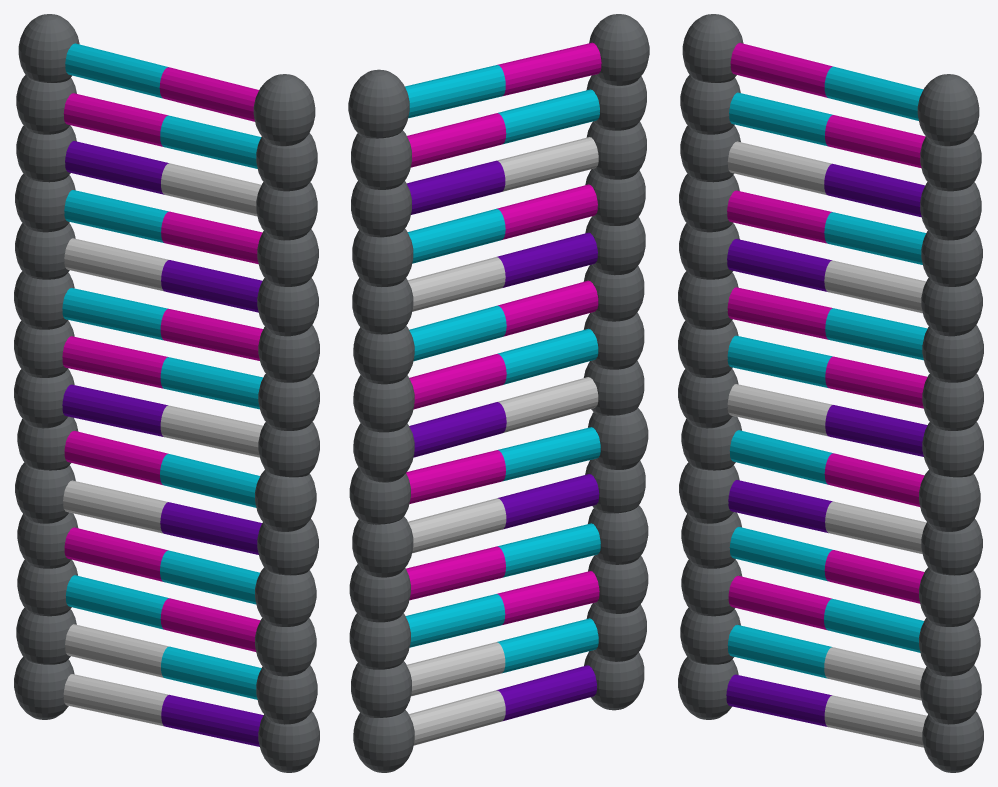
Rendered from DNAflatmutation2.glb.
3 views of the same model, side by side, from view 1: azimuth 90°, elevation 25°; view 2: azimuth 150°, elevation 25°; view 3: azimuth 270°, elevation 25° (orthographic).
Visible parts, largest first — view 1: Mesh_Mesh_head_geo.001_lambert2SG.001; view 2: Mesh_Mesh_head_geo.001_lambert2SG.001; view 3: Mesh_Mesh_head_geo.001_lambert2SG.001.
Boxes of the visible parts, x1,y1,x2,y2 form: Mesh_Mesh_head_geo.001_lambert2SG.001: (14,14,319,772); Mesh_Mesh_head_geo.001_lambert2SG.001: (348,14,649,772); Mesh_Mesh_head_geo.001_lambert2SG.001: (678,14,983,772).
Bounding box in the file's own units: 45.86 × 173 × 68.85.
